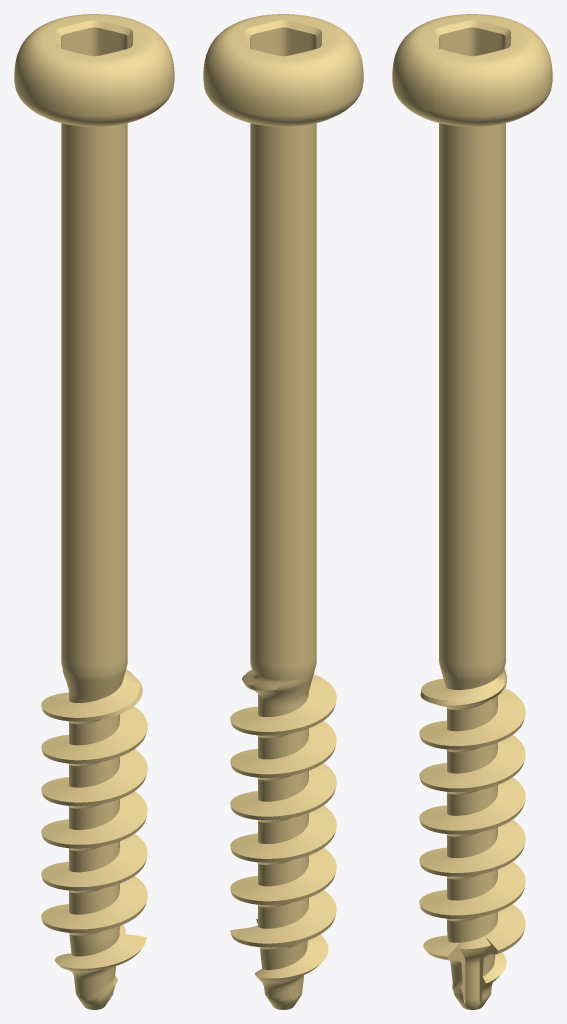
Rendered from os39_cancellous_partial_4x40_lod0.glb.
3 views of the same model, side by side, from view 1: azimuth 30°, elevation 25°; view 2: azimuth 150°, elevation 25°; view 3: azimuth 270°, elevation 25° (orthographic).
Parts seen in each view (by area): view 1: os39_cancellous_partial_4x40; view 2: os39_cancellous_partial_4x40; view 3: os39_cancellous_partial_4x40.
Boxes of the visible parts, x1=… form: os39_cancellous_partial_4x40: x1=14, y1=14, x2=174, y2=1009; os39_cancellous_partial_4x40: x1=203, y1=14, x2=363, y2=1009; os39_cancellous_partial_4x40: x1=392, y1=14, x2=552, y2=1009.
Bounding box in the file's own units: 0.006 × 0.04 × 0.006.
